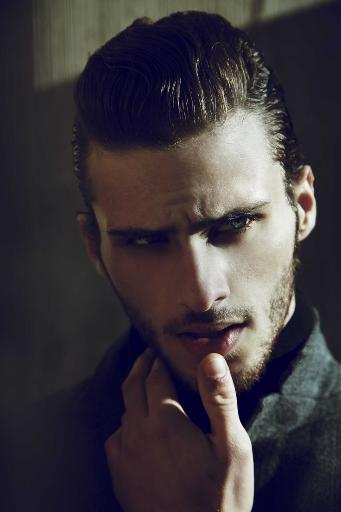left_eye: (205, 213, 263, 242)
left_lip_corner: (236, 315, 254, 337)
right_eye: (119, 233, 171, 255)
right_lip_corner: (174, 327, 191, 346)
